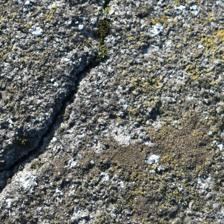Crack: (4, 26, 111, 161)
